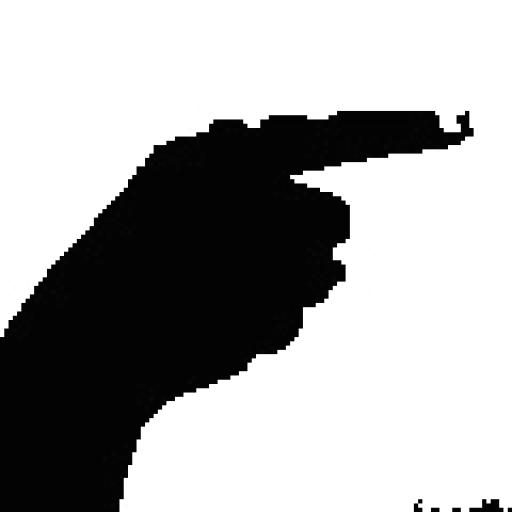index_left: (0, 106, 475, 330)
